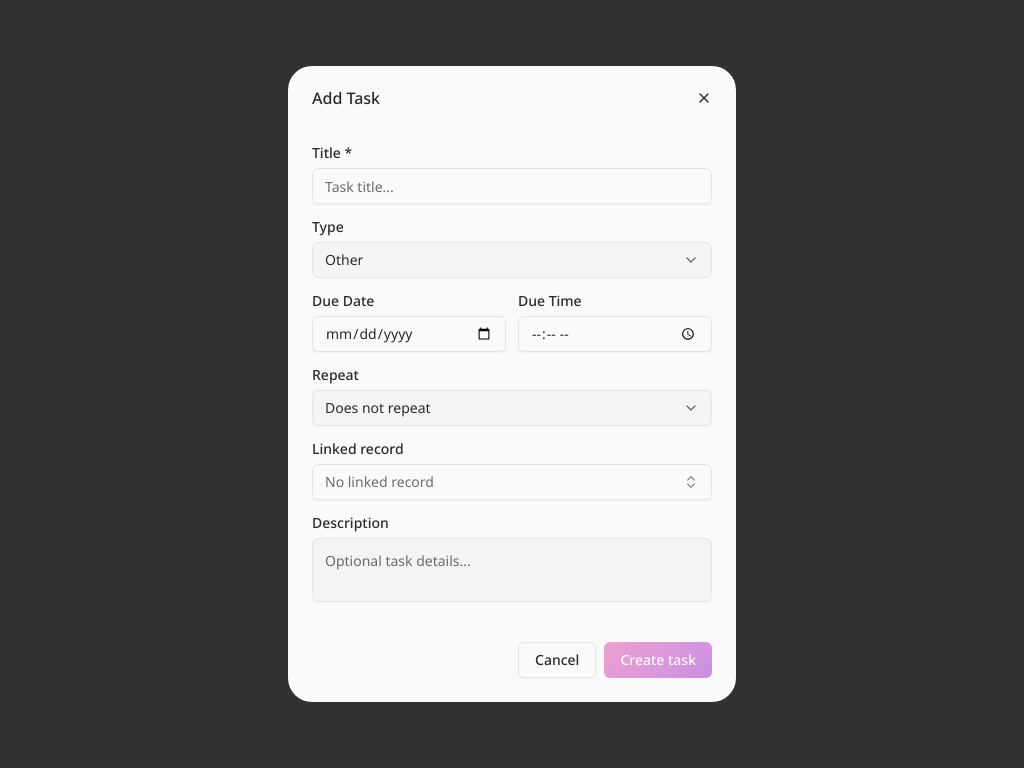
Test: AddTaskDialog › keeps the dialog open with a sanitized message when creation fails
Type "Follow up" into the field labelled "Title *" at (512, 186), box x1=312 y1=168 x2=712 y2=204
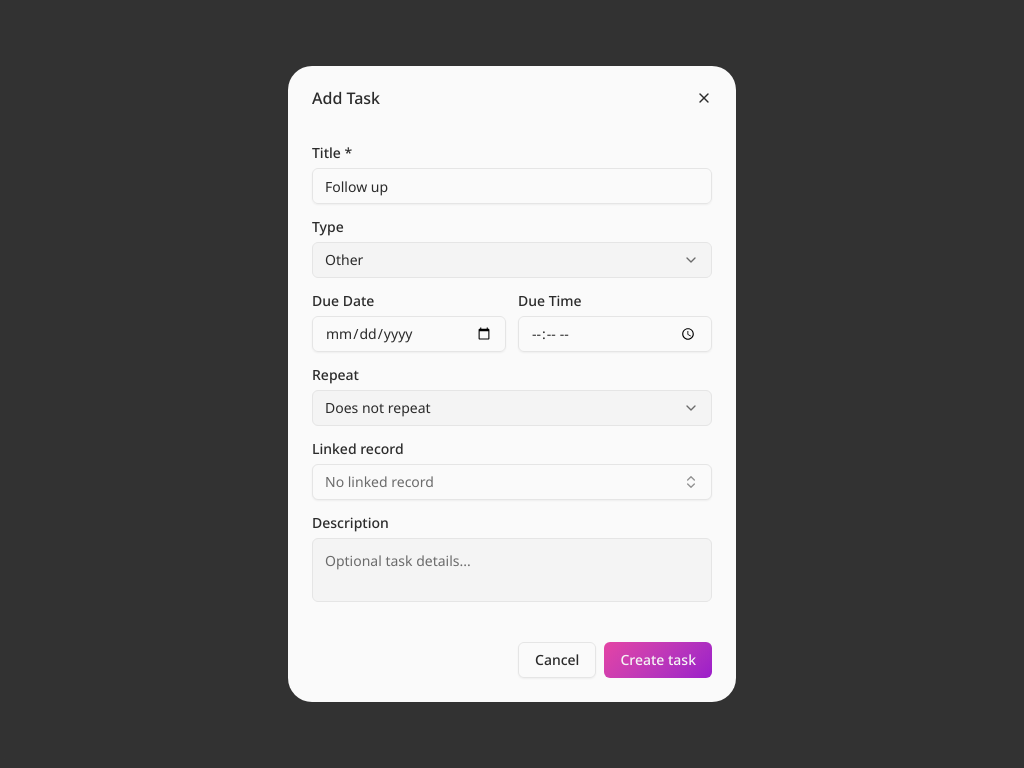
Click the button "Create task" at (658, 660), box x1=604 y1=642 x2=712 y2=678
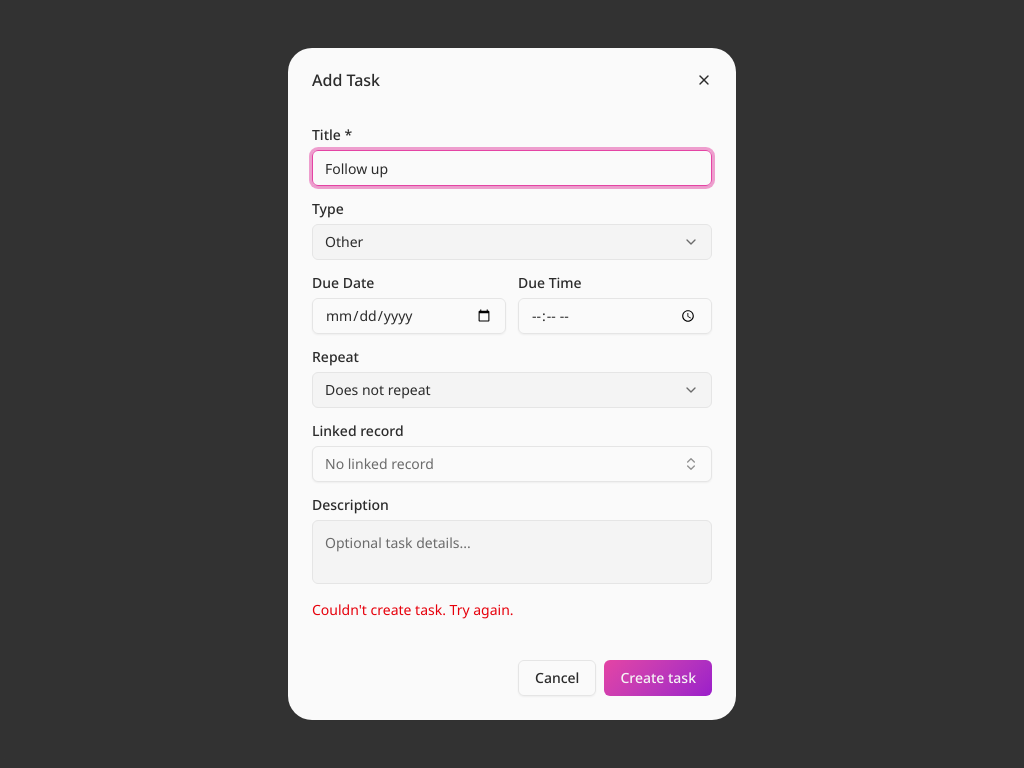
Now the message reads "Couldn't create task. Try again.", box x1=312 y1=600 x2=514 y2=619
